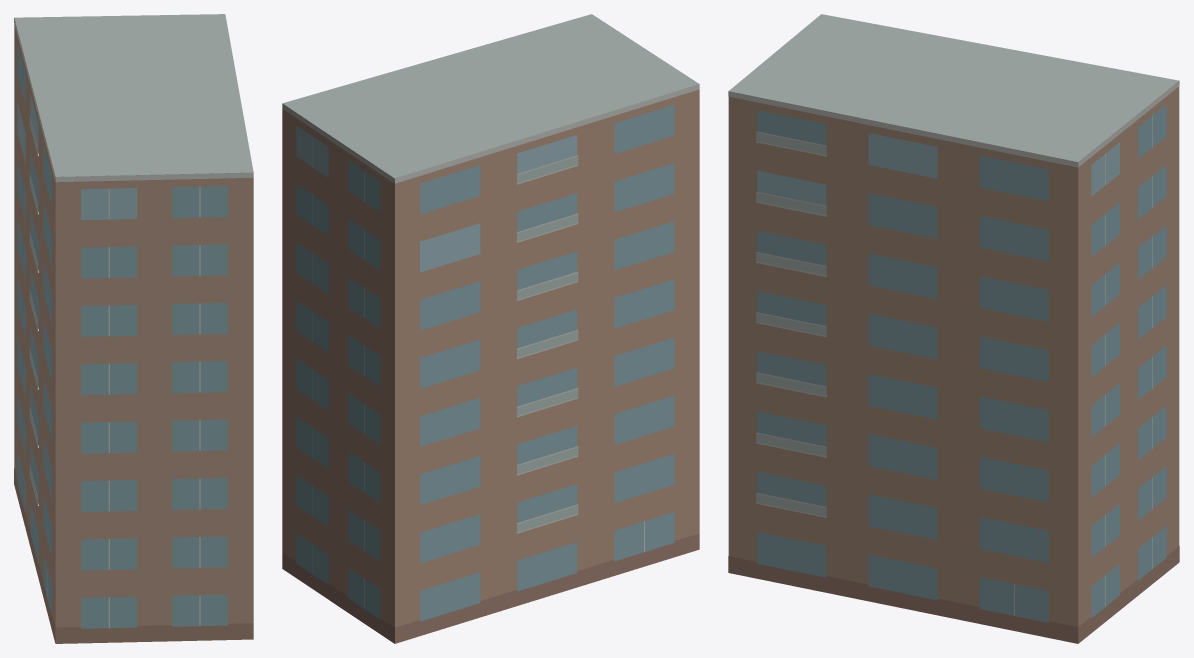
The model's file is survey-upis-32534803.glb.
3 renders of one model, left to right at view 1: azimuth 30°, elevation 25°; view 2: azimuth 150°, elevation 25°; view 3: azimuth 270°, elevation 25°, orthographic. The views are drawn at different scales.
Visible parts, largest first — view 1: survey-upis-32534803.tmp; view 2: survey-upis-32534803.tmp; view 3: survey-upis-32534803.tmp.
Boxes of the visible parts, x1,y1,x2,y2 form: survey-upis-32534803.tmp: (14, 14, 253, 643); survey-upis-32534803.tmp: (282, 14, 699, 643); survey-upis-32534803.tmp: (728, 14, 1179, 643).
Size of the model in its own units: 14.22 by 21.55 by 18.29.
